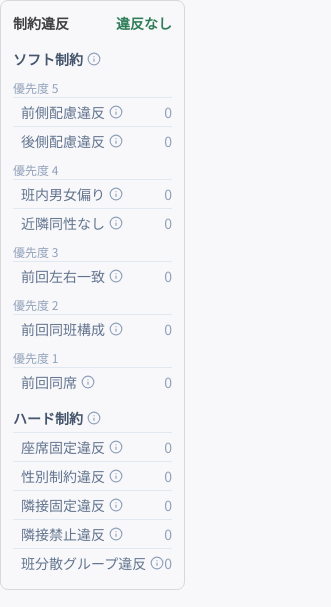
Scenario: ScoreBreakdownTable ツールチップ › 説明ボタンはフォーカスでもツールチップを表示し、Escape で閉じる
Focus the button named "前側配慮が満たされていない件数" at point(116, 112), box 109,105 -> 123,119
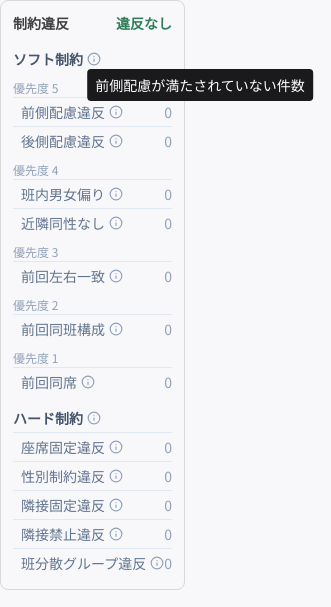
Expected: the text "前側配慮が満たされていない件数" is shown, 95,75 -> 305,95
Press Escape in the button named "前側配慮が満たされていない件数", box 109,105 -> 123,119
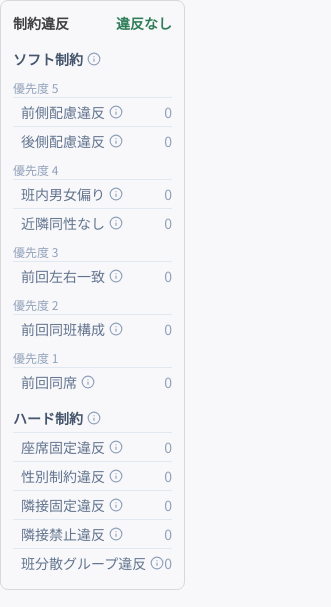
Expected: the text "前側配慮が満たされていない件数" is gone
